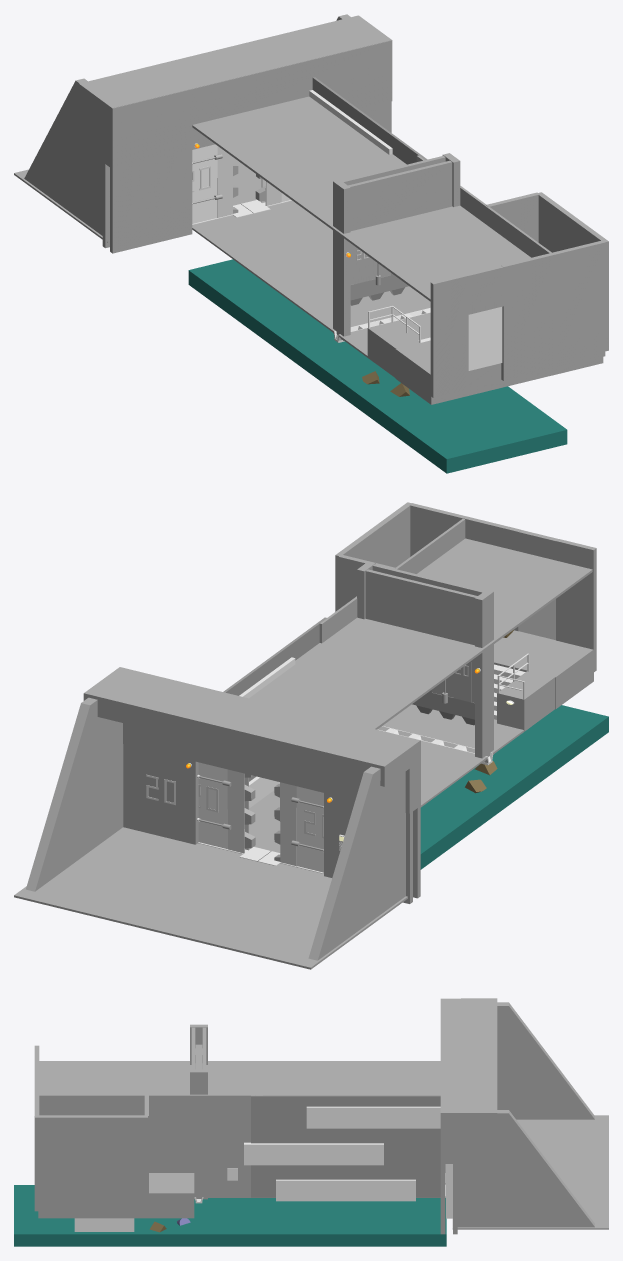
Rendered from bunker.glb.
The picture shows the model from 3 angles, top to bottom: view 1: azimuth 30°, elevation 25°; view 2: azimuth 150°, elevation 25°; view 3: azimuth 270°, elevation 25°; orthographic projection. The views are drawn at different scales.
Parts seen in each view (by area): view 1: pCube64, pCube116, pCube126, pCube140, pCube107, pCube75, pCube139, pCube67, pCube61, pCube20, pCube68, pCube110 (+18 smaller); view 2: pCube137, pCube140, pCube126, pCube64, pCube139, pCube138, pCube75, pCube116, pCube22, pCube112, polySurface60, pCube31 (+22 smaller); view 3: pCube64, pCube138, pCube62, pCube126, pCube140, pCube139, pCube137, pCube75, pCube52, pCube121, pCube120, pCube122 (+14 smaller).
Part boxes in pixels (left/top/right/bottom): pCube64: left=188, top=259, right=567, bottom=473; pCube116: left=102, top=40, right=392, bottom=169; pCube126: left=192, top=96, right=406, bottom=219; pCube140: left=79, top=15, right=391, bottom=119; pCube107: left=192, top=183, right=332, bottom=307; pCube75: left=316, top=205, right=530, bottom=301; pCube139: left=24, top=78, right=102, bottom=235; pCube67: left=501, top=253, right=554, bottom=380; pCube61: left=552, top=240, right=605, bottom=368; pCube20: left=348, top=160, right=452, bottom=247; pCube68: left=430, top=274, right=468, bottom=397; pCube110: left=141, top=150, right=192, bottom=246; pCube137: left=14, top=827, right=407, bottom=969; pCube140: left=83, top=667, right=420, bottom=786; pCube126: left=249, top=628, right=471, bottom=729; pCube64: left=420, top=705, right=608, bottom=869; pCube139: left=308, top=766, right=405, bottom=960; pCube138: left=26, top=697, right=123, bottom=891; pCube75: left=341, top=538, right=592, bottom=662; pCube116: left=123, top=667, right=420, bottom=813; pCube22: left=365, top=569, right=477, bottom=662; pCube112: left=140, top=748, right=198, bottom=844; polySurface60: left=198, top=762, right=255, bottom=853; pCube31: left=494, top=630, right=593, bottom=709; pCube64: left=14, top=1185, right=446, bottom=1246; pCube138: left=457, top=1110, right=594, bottom=1227; pCube62: left=35, top=1115, right=147, bottom=1208; pCube126: left=228, top=1061, right=440, bottom=1095; pCube140: left=441, top=998, right=497, bottom=1128; pCube139: left=497, top=1002, right=594, bottom=1119; pCube137: left=452, top=1115, right=608, bottom=1229; pCube75: left=39, top=1061, right=233, bottom=1094; pCube52: left=72, top=1094, right=262, bottom=1132; pCube121: left=251, top=1126, right=440, bottom=1162; pCube120: left=251, top=1161, right=440, bottom=1197; pCube122: left=251, top=1095, right=440, bottom=1133.
Size of the model in its own units: 169 by 120 by 372.
